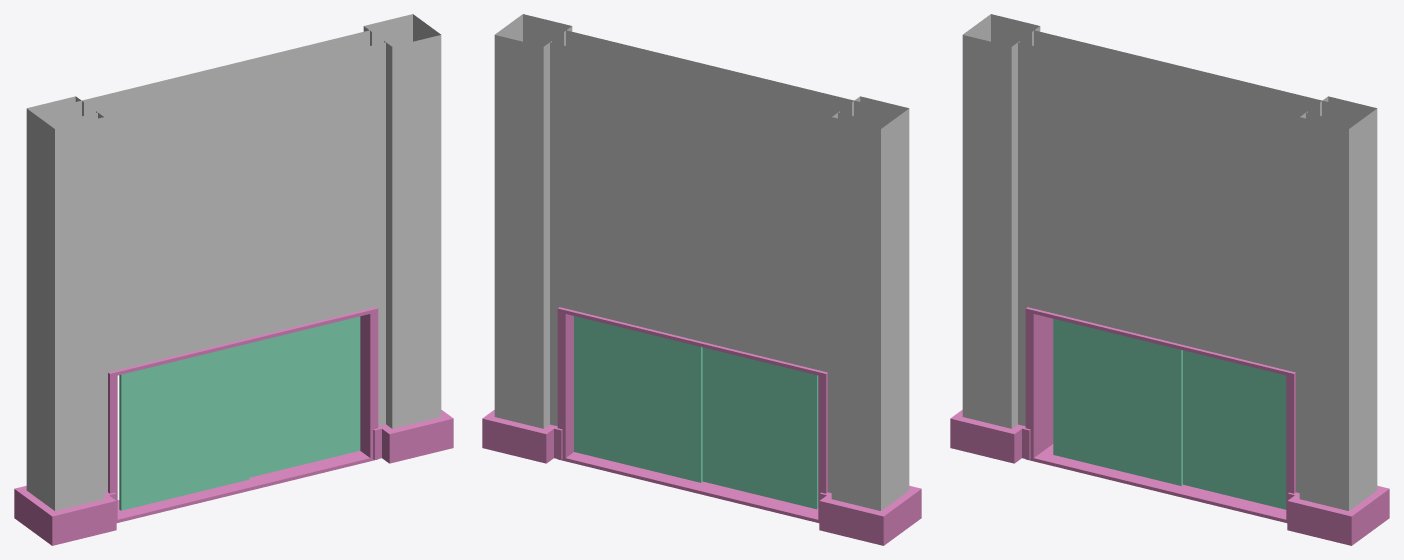
The model's file is Wall3GlassHalfOpenUV.fbx.
3 renders of one model, left to right at view 1: azimuth 30°, elevation 25°; view 2: azimuth 150°, elevation 25°; view 3: azimuth 330°, elevation 25°, orthographic.
Visible parts, largest first — view 1: Cube.010, Cube.008; view 2: Cube.010, Cube.008; view 3: Cube.010, Cube.008.
Part boxes in pixels (x1,y1,x2,y2): Cube.010: [14, 14, 453, 545]; Cube.008: [119, 343, 249, 510]; Cube.010: [482, 14, 921, 545]; Cube.008: [702, 347, 818, 509]; Cube.010: [950, 14, 1389, 545]; Cube.008: [1053, 318, 1182, 485].
Size of the model in its own units: 714 by 703 by 117.
